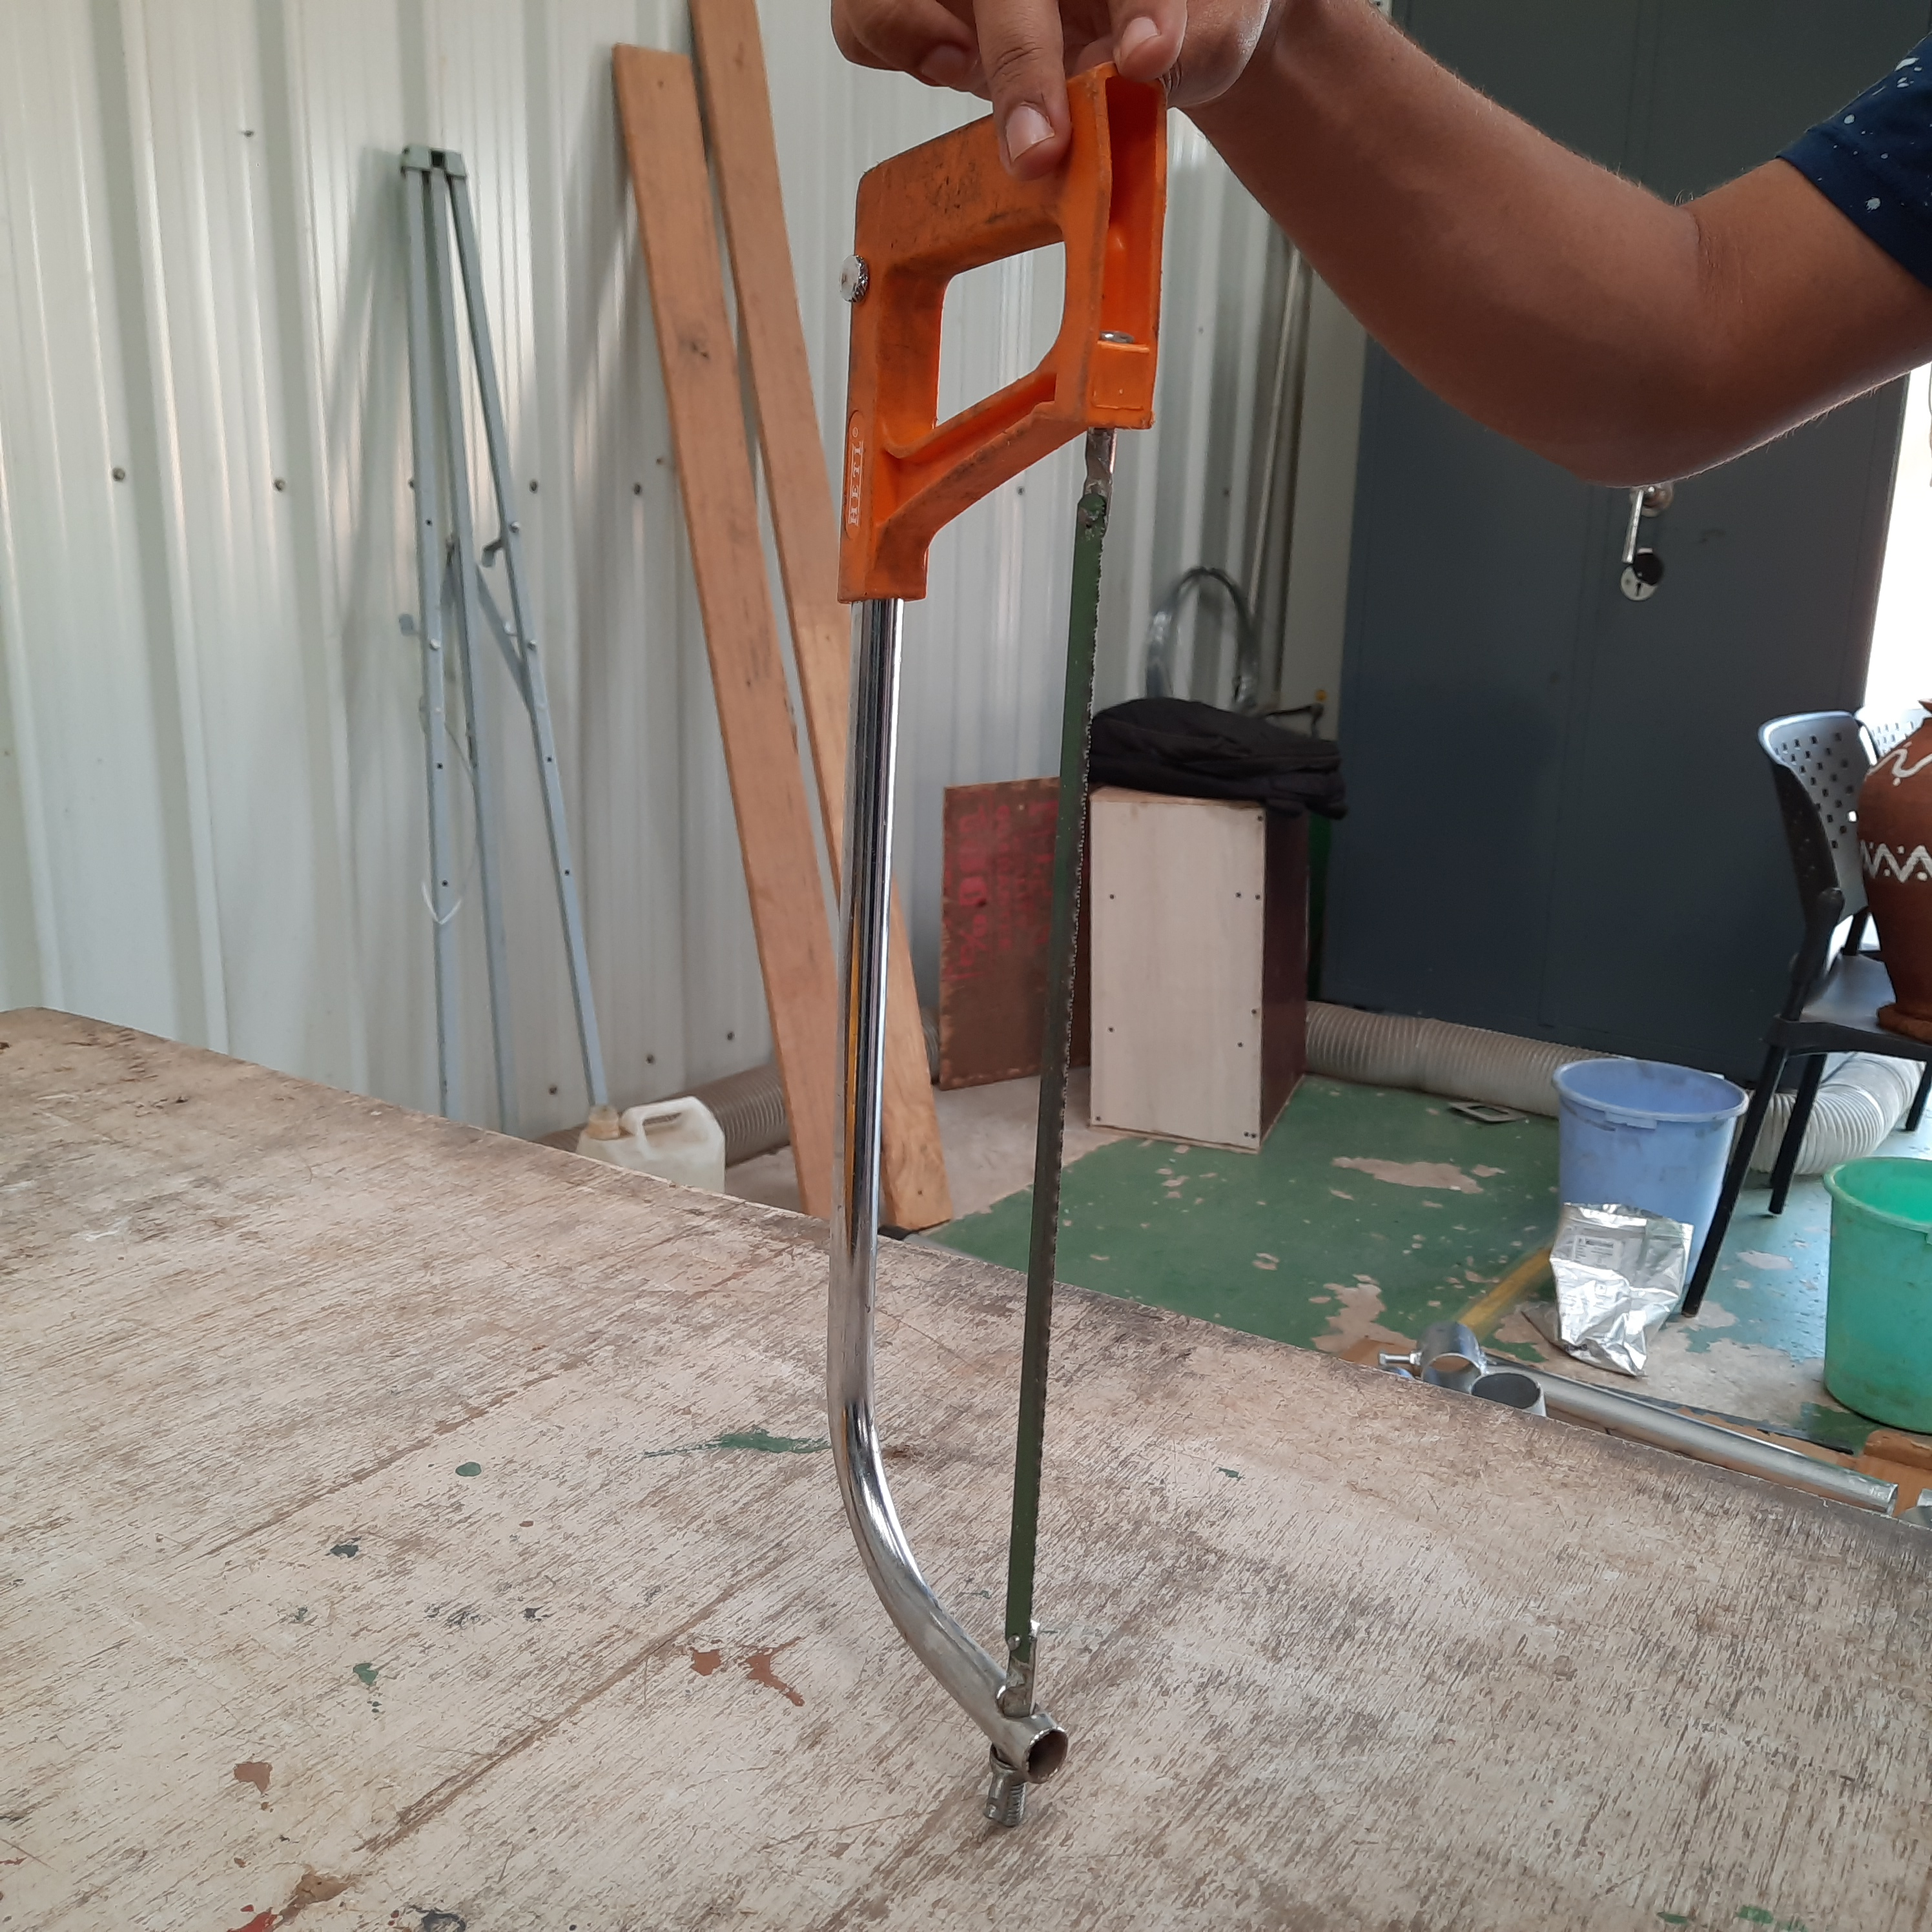Hexaframe: (824, 80, 1116, 1782)
